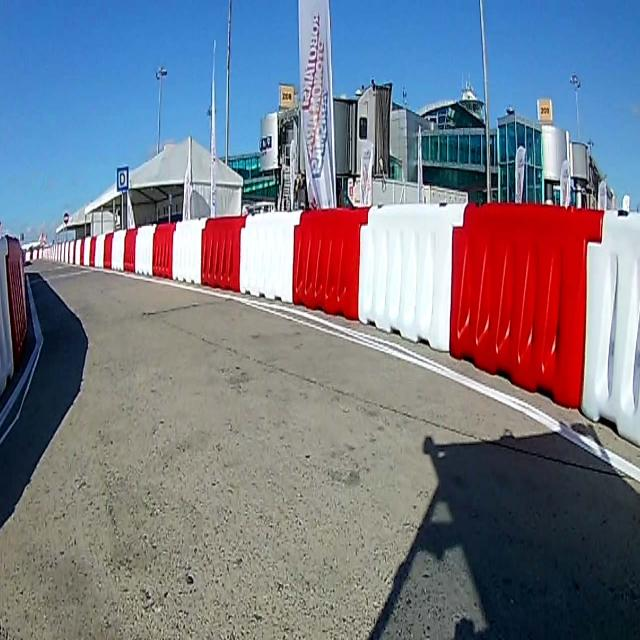durak: (117, 166, 129, 190)
